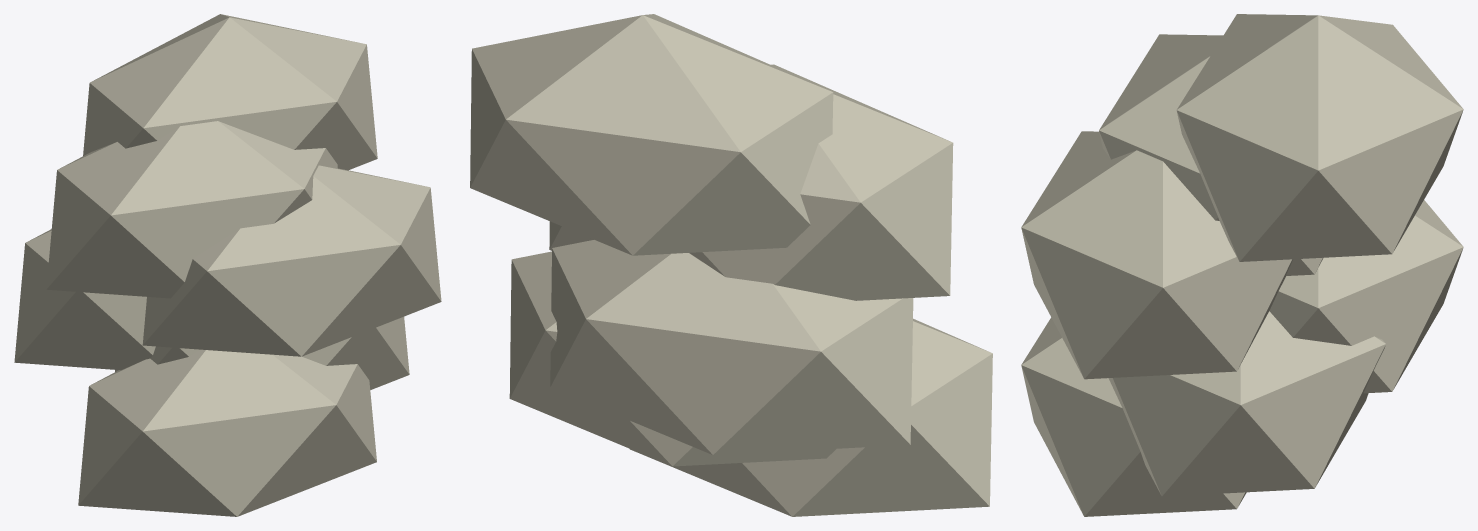
File: item_074_tin_ore_l.glb
3 renders of one model, left to right at view 1: azimuth 30°, elevation 25°; view 2: azimuth 150°, elevation 25°; view 3: azimuth 270°, elevation 25°, orthographic. The views are drawn at different scales.
Parts seen in each view (by area): view 1: item_074_tin_ore_l; view 2: item_074_tin_ore_l; view 3: item_074_tin_ore_l.
Boxes of the visible parts, x1,y1,x2,y2 form: item_074_tin_ore_l: [14, 14, 441, 516]; item_074_tin_ore_l: [470, 14, 992, 516]; item_074_tin_ore_l: [1021, 14, 1463, 516].
Size of the model in its own units: 0.3829 by 0.4463 by 0.3419.
